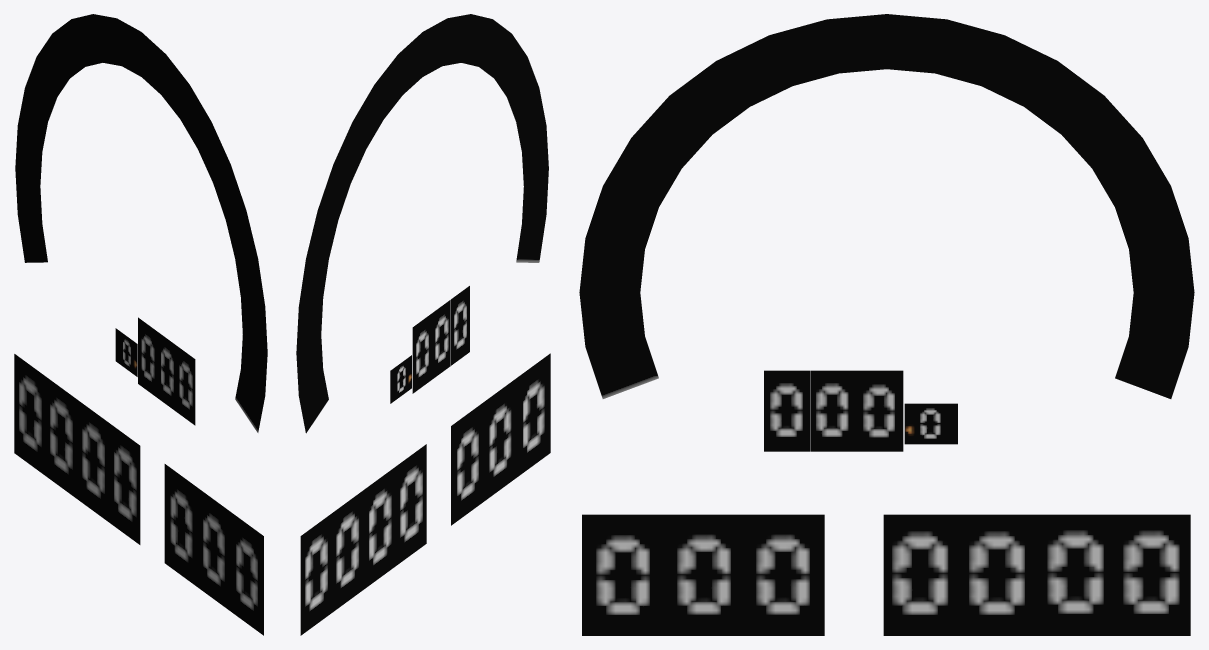
Rendered from tuyere.fbx.
3 renders of one model, left to right at view 1: azimuth 30°, elevation 25°; view 2: azimuth 150°, elevation 25°; view 3: azimuth 270°, elevation 25°, orthographic. The views are drawn at different scales.
Visible parts, largest first — view 1: tuyere.needle, tuyere.num1-2, tuyere.num1-3, tuyere.num1-1, tuyere.num2-2, tuyere.num2-0, tuyere.num2-1, tuyere.num2-3, tuyere.num3-0, tuyere.num3-1, tuyere.num3-2, tuyere.num3-3; view 2: tuyere.needle, tuyere.num1-1, tuyere.num1-2, tuyere.num2-1, tuyere.num1-3, tuyere.num2-0, tuyere.num2-3, tuyere.num2-2, tuyere.num3-1, tuyere.num3-2, tuyere.num3-0, tuyere.num3-3; view 3: tuyere.needle, tuyere.num1-2, tuyere.num1-3, tuyere.num1-1, tuyere.num2-0, tuyere.num2-1, tuyere.num2-2, tuyere.num2-3, tuyere.num3-0, tuyere.num3-1, tuyere.num3-2, tuyere.num3-3.
Boxes of the visible parts, x1=… form: tuyere.needle: x1=15, y1=14, x2=267, y2=432; tuyere.num1-2: x1=197, y1=488, x2=230, y2=611; tuyere.num1-3: x1=164, y1=464, x2=197, y2=586; tuyere.num1-1: x1=231, y1=512, x2=263, y2=635; tuyere.num2-2: x1=45, y1=377, x2=77, y2=498; tuyere.num2-0: x1=108, y1=423, x2=140, y2=544; tuyere.num2-1: x1=77, y1=400, x2=108, y2=521; tuyere.num2-3: x1=14, y1=354, x2=45, y2=475; tuyere.num3-0: x1=176, y1=345, x2=195, y2=425; tuyere.num3-1: x1=157, y1=331, x2=176, y2=411; tuyere.num3-2: x1=138, y1=317, x2=156, y2=397; tuyere.num3-3: x1=115, y1=328, x2=137, y2=376; tuyere.needle: x1=296, y1=14, x2=548, y2=433; tuyere.num1-1: x1=517, y1=353, x2=550, y2=476; tuyere.num1-2: x1=484, y1=378, x2=517, y2=501; tuyere.num2-1: x1=363, y1=467, x2=395, y2=589; tuyere.num1-3: x1=451, y1=402, x2=483, y2=525; tuyere.num2-0: x1=395, y1=444, x2=426, y2=566; tuyere.num2-3: x1=300, y1=513, x2=331, y2=635; tuyere.num2-2: x1=332, y1=490, x2=363, y2=612; tuyere.num3-1: x1=431, y1=300, x2=450, y2=379; tuyere.num3-2: x1=412, y1=314, x2=431, y2=393; tuyere.num3-0: x1=451, y1=286, x2=469, y2=365; tuyere.num3-3: x1=390, y1=355, x2=411, y2=403; tuyere.needle: x1=579, y1=14, x2=1194, y2=398; tuyere.num1-2: x1=662, y1=514, x2=743, y2=635; tuyere.num1-3: x1=743, y1=514, x2=824, y2=635; tuyere.num1-1: x1=582, y1=514, x2=662, y2=635; tuyere.num2-0: x1=883, y1=514, x2=960, y2=635; tuyere.num2-1: x1=960, y1=514, x2=1036, y2=635; tuyere.num2-2: x1=1037, y1=514, x2=1113, y2=635; tuyere.num2-3: x1=1114, y1=514, x2=1190, y2=635; tuyere.num3-0: x1=764, y1=370, x2=810, y2=451; tuyere.num3-1: x1=810, y1=370, x2=856, y2=451; tuyere.num3-2: x1=857, y1=370, x2=903, y2=451; tuyere.num3-3: x1=904, y1=403, x2=957, y2=444.
Bounding box in the file's own units: 0.0602 × 4.45 × 4.98.
